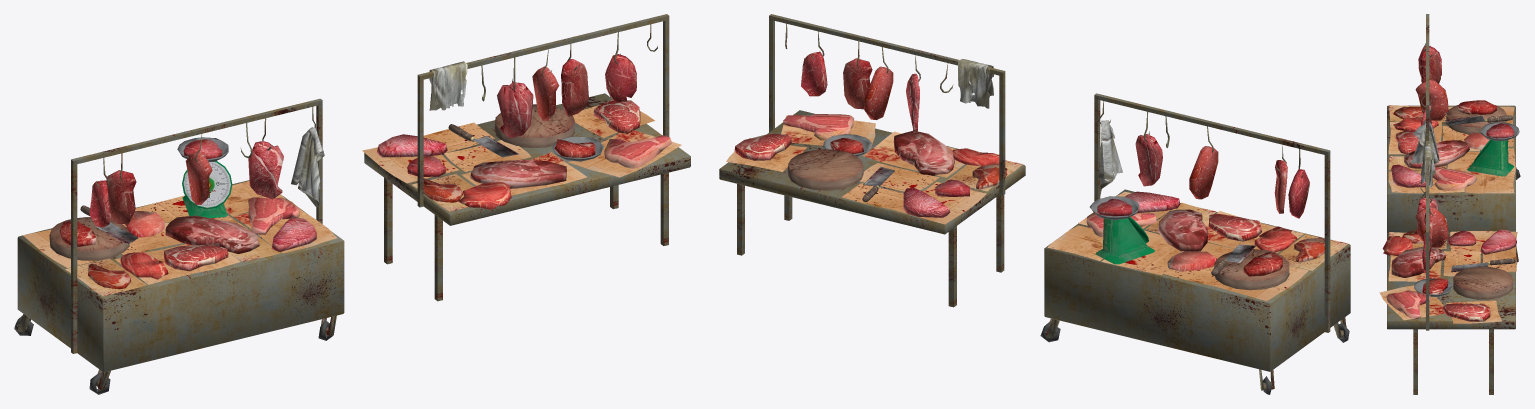
File: vn_meat_stall.glb
3 renders of one model, left to right at view 1: azimuth 30°, elevation 25°; view 2: azimuth 150°, elevation 25°; view 3: azimuth 270°, elevation 25°, orthographic. The views are drawn at different scales.
Parts seen in each view (by area): view 1: Cube.001_meat_0; view 2: Cube.001_meat_0; view 3: Cube.001_meat_0.
Part boxes in pixels (x1,y1,x2,y2): Cube.001_meat_0: [14, 14, 690, 394]; Cube.001_meat_0: [719, 14, 1350, 394]; Cube.001_meat_0: [1379, 14, 1520, 394].
Size of the model in its own units: 5.63 by 2 by 1.53.
1 material, 1 textured.
